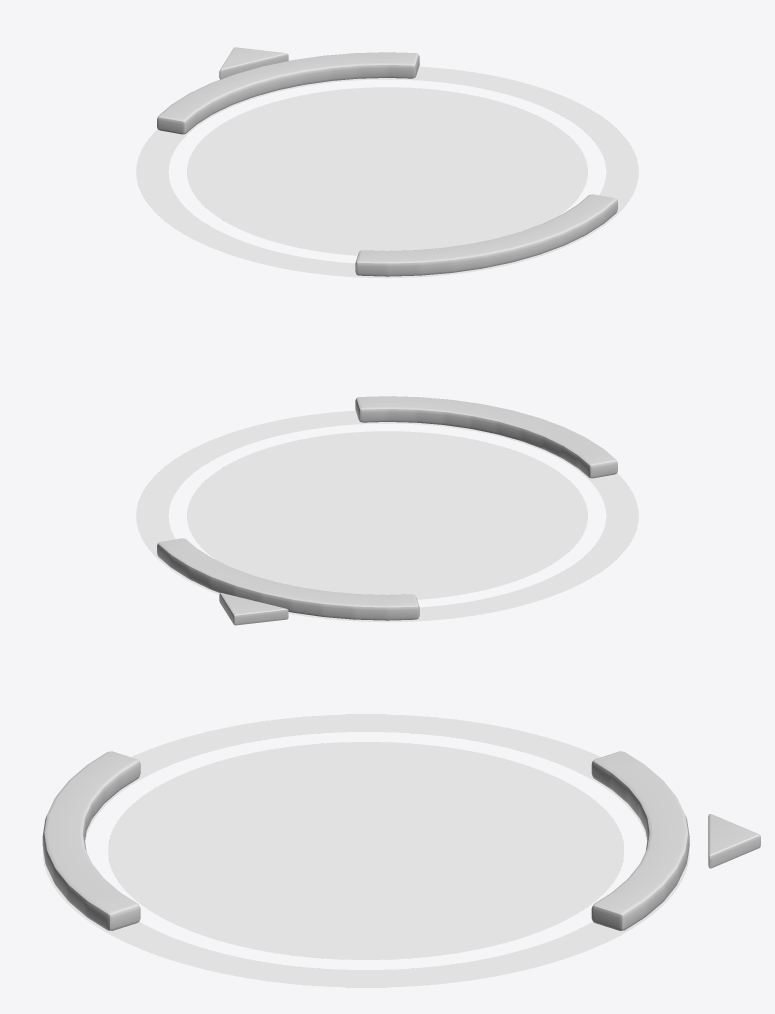
File: RemotePlaceholder.fbx
3 renders of one model, top to bottom at view 1: azimuth 30°, elevation 25°; view 2: azimuth 150°, elevation 25°; view 3: azimuth 270°, elevation 25°, orthographic. The views are drawn at different scales.
Visible parts, largest first — view 1: Ring, SolidRing, FrontIndicator; view 2: Ring, SolidRing, FrontIndicator; view 3: Ring, SolidRing, FrontIndicator.
Part boxes in pixels (left/top/right/bottom): Ring: left=136, top=66, right=638, bottom=278; SolidRing: left=157, top=52, right=617, bottom=276; FrontIndicator: left=219, top=47, right=288, bottom=79; Ring: left=136, top=410, right=638, bottom=622; SolidRing: left=157, top=396, right=617, bottom=620; FrontIndicator: left=219, top=593, right=288, bottom=625; Ring: left=43, top=714, right=689, bottom=987; SolidRing: left=42, top=751, right=689, bottom=930; FrontIndicator: left=708, top=814, right=760, bottom=868.
Bounding box in the file's own units: 65.32 × 2 × 69.28.
Materials: 2 (1 with a texture image).
